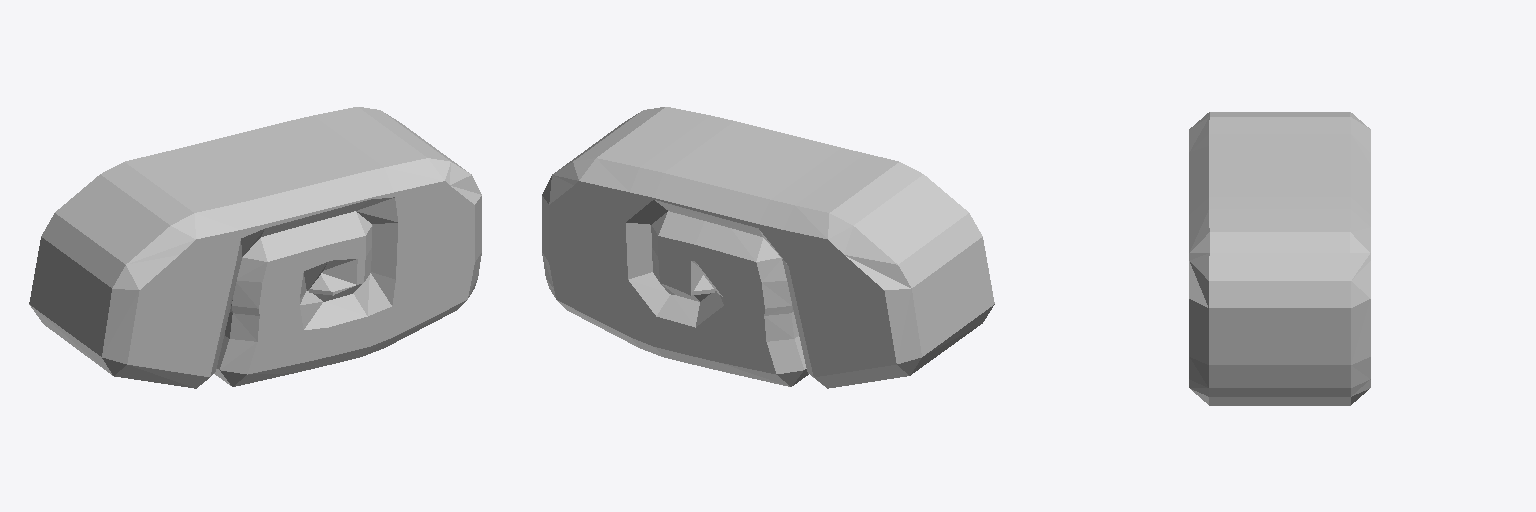
The model's file is TreeBranch_03.obj.
3 renders of one model, left to right at view 1: azimuth 30°, elevation 25°; view 2: azimuth 150°, elevation 25°; view 3: azimuth 270°, elevation 25°, orthographic.
Visible parts, largest first — view 1: Branch3; view 2: Branch3; view 3: Branch3.
Part boxes in pixels (x1,y1,x2,y2): Branch3: (29,107,481,388); Branch3: (542,107,994,388); Branch3: (1189,112,1370,405).
Bounding box in the file's own units: 10.3 × 4.77 × 4.24.